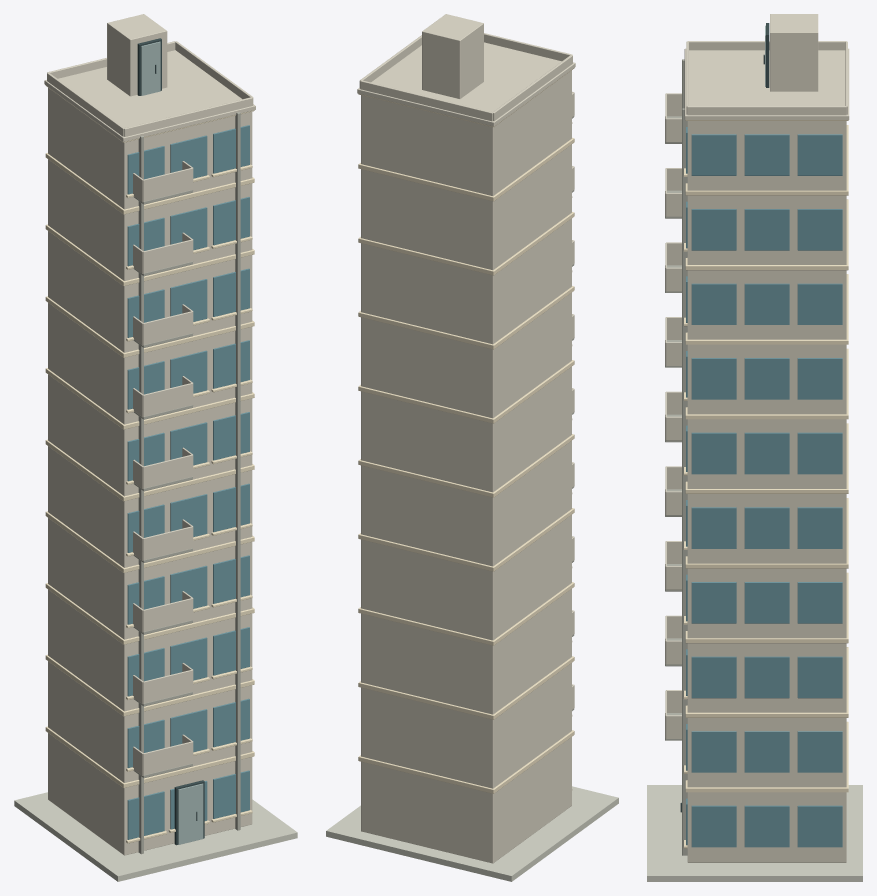
The model's file is large-2x2-slim-tower-01.glb.
3 views of the same model, side by side, from view 1: azimuth 30°, elevation 25°; view 2: azimuth 150°, elevation 25°; view 3: azimuth 270°, elevation 25° (orthographic). The views are drawn at different scales.
Parts seen in each view (by area): view 1: Storey_01, Storey_09, Storey_05, Storey_08, Storey_02, Storey_04, Storey_03, Storey_06, Storey_07, Storey_10, LotPlinth, RoofCap (+56 smaller); view 2: Storey_01, Storey_04, Storey_07, Storey_08, Storey_05, Storey_06, Storey_03, Storey_09, Storey_10, Storey_02, LotPlinth, RoofCap (+14 smaller); view 3: LotPlinth, RoofCap, Storey_01, Storey_04, Storey_07, Storey_02, Storey_03, Storey_05, Storey_06, Storey_08, Storey_10, Storey_09 (+43 smaller).
Part boxes in pixels (left/top/right/bottom): Storey_01: left=48, top=733, right=252, bottom=855; Storey_09: left=48, top=159, right=252, bottom=280; Storey_05: left=48, top=446, right=252, bottom=567; Storey_08: left=48, top=231, right=252, bottom=352; Storey_02: left=48, top=661, right=252, bottom=782; Storey_04: left=48, top=518, right=252, bottom=639; Storey_03: left=48, top=589, right=252, bottom=711; Storey_06: left=48, top=374, right=252, bottom=496; Storey_07: left=48, top=303, right=252, bottom=424; Storey_10: left=48, top=87, right=252, bottom=209; LotPlinth: left=14, top=792, right=297, bottom=881; RoofCap: left=44, top=50, right=255, bottom=141; Storey_01: left=361, top=737, right=571, bottom=863; Storey_04: left=361, top=515, right=571, bottom=640; Storey_07: left=361, top=292, right=571, bottom=418; Storey_08: left=361, top=218, right=571, bottom=344; Storey_05: left=361, top=441, right=571, bottom=566; Storey_06: left=361, top=366, right=571, bottom=492; Storey_03: left=361, top=589, right=571, bottom=714; Storey_09: left=361, top=144, right=571, bottom=270; Storey_10: left=361, top=70, right=571, bottom=195; Storey_02: left=361, top=663, right=571, bottom=788; LotPlinth: left=326, top=786, right=618, bottom=881; RoofCap: left=357, top=42, right=575, bottom=126; LotPlinth: left=647, top=785, right=862, bottom=881; RoofCap: left=684, top=48, right=849, bottom=119; Storey_01: left=687, top=792, right=846, bottom=862; Storey_04: left=687, top=568, right=846, bottom=638; Storey_07: left=687, top=344, right=846, bottom=414; Storey_02: left=687, top=718, right=846, bottom=787; Storey_03: left=687, top=643, right=846, bottom=712; Storey_05: left=687, top=494, right=846, bottom=563; Storey_06: left=687, top=419, right=846, bottom=488; Storey_08: left=687, top=270, right=846, bottom=339; Storey_10: left=687, top=121, right=846, bottom=190; Storey_09: left=687, top=195, right=846, bottom=264.
Size of the model in its own units: 8 by 33.24 by 8.
